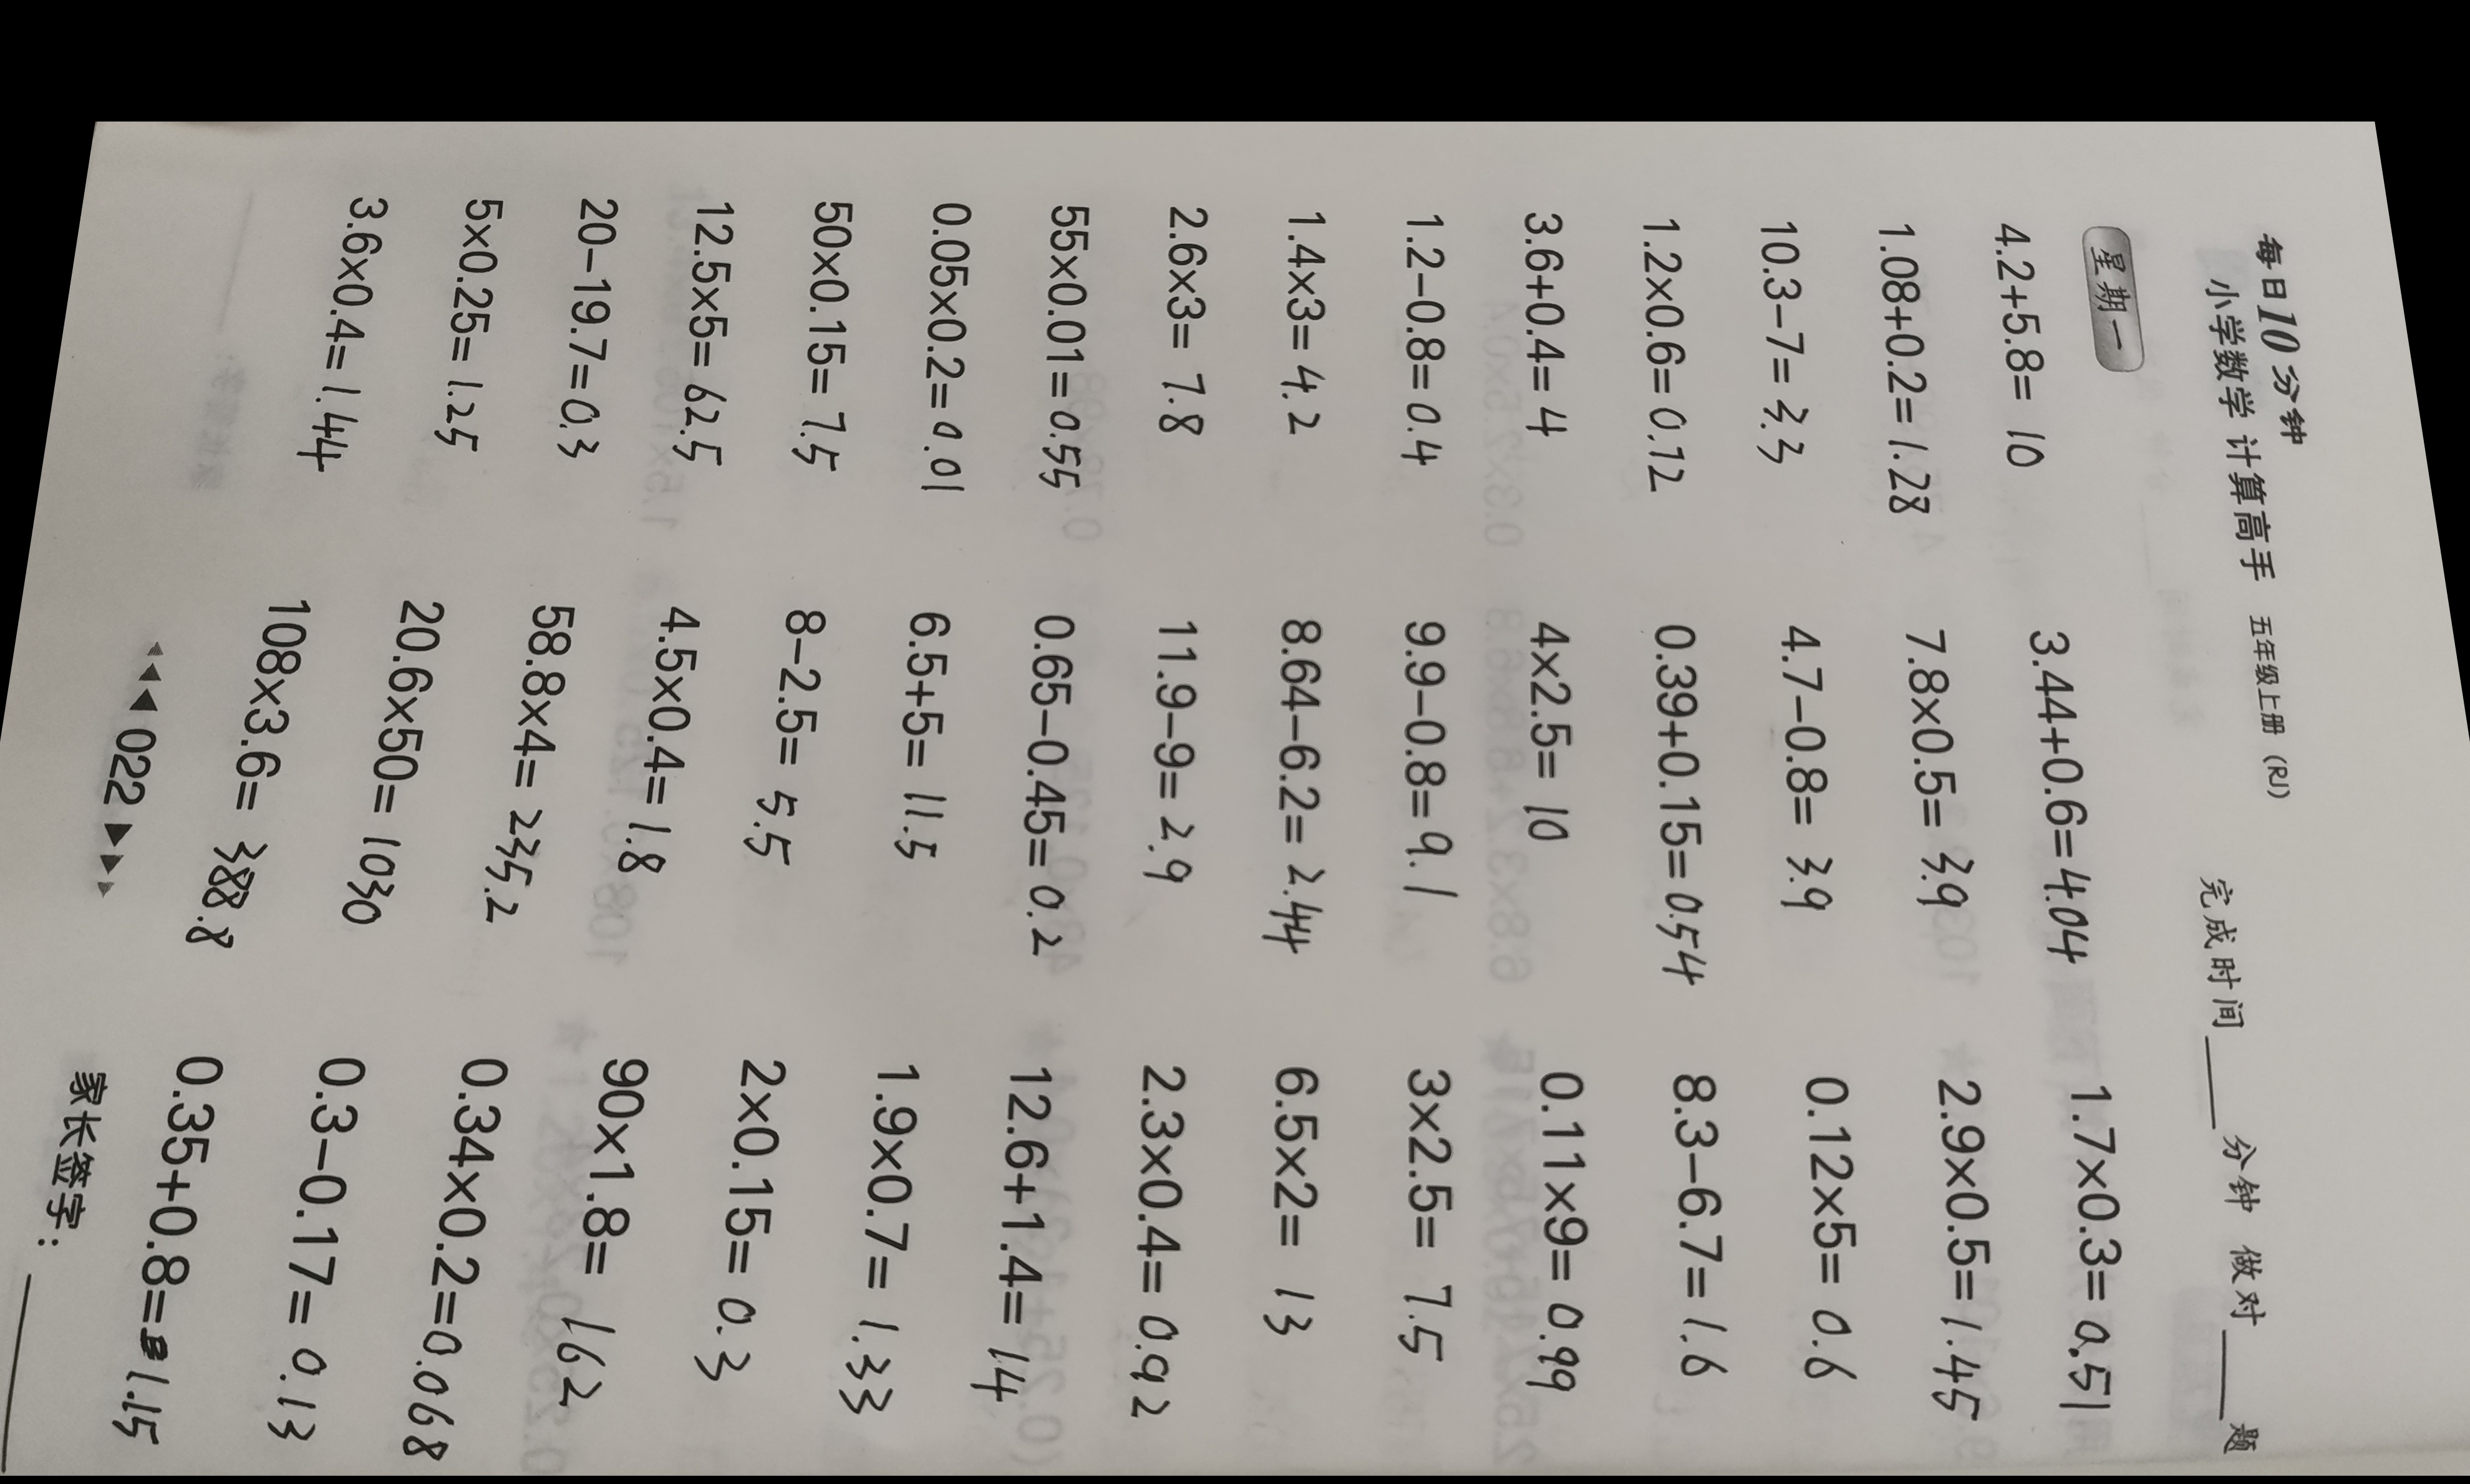equation: (927, 1278, 1661, 1348), (929, 1111, 1605, 1178), (1786, 1049, 2464, 1114), (916, 1193, 1605, 1254), (60, 1254, 703, 1318), (1816, 1293, 2469, 1355), (1804, 1208, 2469, 1265), (987, 677, 1635, 735), (1773, 971, 2399, 1031), (68, 1099, 709, 1155), (1783, 899, 2438, 953), (1794, 1137, 2469, 1190), (120, 881, 819, 931), (1785, 754, 2434, 807), (1793, 827, 2421, 880), (958, 820, 1683, 865), (946, 961, 1510, 1019), (99, 959, 729, 1008), (103, 1029, 718, 1079), (1786, 299, 2344, 354), (951, 1041, 1537, 1092), (1000, 486, 1672, 531), (135, 816, 786, 862), (177, 609, 757, 660), (217, 355, 868, 399), (992, 607, 1545, 658), (1781, 551, 2346, 600), (79, 1183, 682, 1230), (1005, 420, 1588, 467), (1783, 365, 2350, 412), (210, 483, 821, 526), (982, 749, 1547, 796), (956, 892, 1499, 939), (226, 417, 782, 463), (1022, 298, 1635, 339), (141, 748, 690, 793), (1779, 486, 2326, 531), (1788, 621, 2311, 667), (192, 544, 704, 590), (1794, 426, 2312, 472), (990, 549, 1461, 599), (172, 680, 695, 724), (1014, 357, 1555, 398), (243, 294, 783, 334), (1790, 688, 2276, 730)
